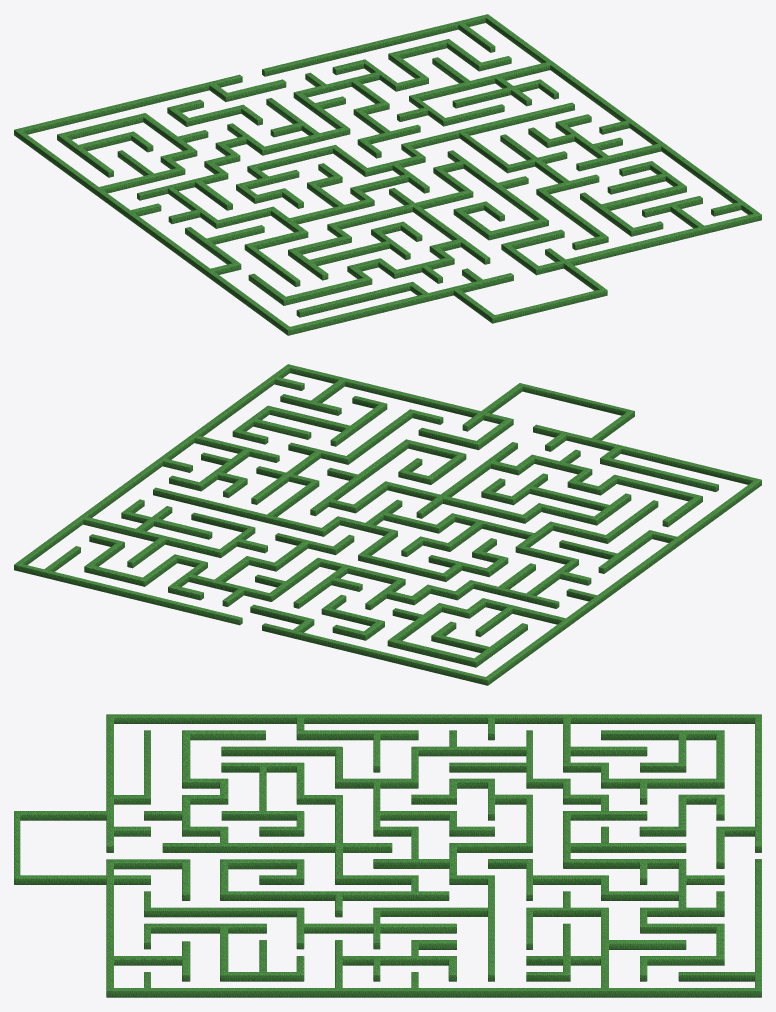
The model's file is grass wall.fbx.
The picture shows the model from 3 angles, top to bottom: view 1: azimuth 30°, elevation 25°; view 2: azimuth 150°, elevation 25°; view 3: azimuth 270°, elevation 25°; orthographic projection. The views are drawn at different scales.
Parts seen in each view (by area): view 1: Cube.001; view 2: Cube.001; view 3: Cube.001.
Boxes of the visible parts, x1=… form: Cube.001: x1=14, y1=14, x2=761, y2=335; Cube.001: x1=14, y1=364, x2=761, y2=685; Cube.001: x1=14, y1=714, x2=761, y2=997.
Size of the model in its own units: 17244 by 200 by 19701.
1 material, 1 textured.
